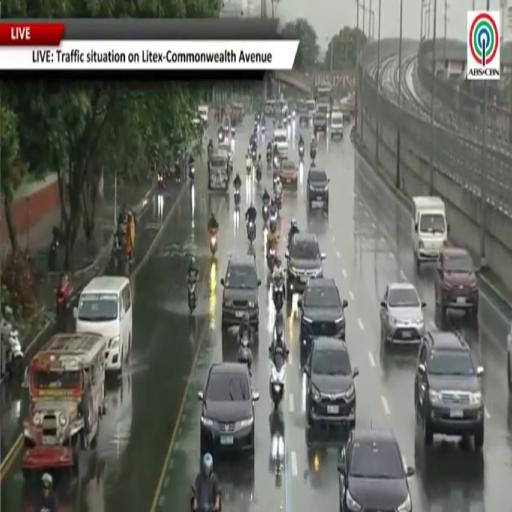car: (415, 331, 485, 449), (338, 429, 415, 511), (198, 362, 259, 457), (304, 336, 358, 428), (298, 278, 348, 362), (221, 253, 260, 330), (435, 247, 479, 315), (285, 233, 325, 303), (380, 283, 425, 344), (307, 168, 329, 211), (279, 159, 297, 189), (273, 128, 288, 158), (313, 112, 327, 136), (297, 102, 309, 126), (507, 323, 511, 392)
jeepney: (23, 333, 107, 475), (209, 149, 229, 191), (219, 140, 233, 175), (231, 104, 244, 125)
motorcycle: (0, 317, 23, 381), (270, 410, 285, 487), (270, 351, 285, 410), (108, 233, 128, 276), (237, 331, 252, 373), (191, 486, 215, 511), (272, 280, 285, 312), (48, 234, 59, 271), (188, 279, 196, 314), (267, 246, 276, 272), (210, 230, 217, 257), (247, 221, 255, 243), (262, 203, 269, 224), (234, 187, 240, 207), (274, 194, 281, 211), (270, 208, 278, 222), (310, 147, 316, 165), (158, 173, 164, 190), (189, 164, 194, 184), (246, 158, 252, 174), (273, 155, 279, 171), (251, 148, 257, 163), (256, 166, 261, 183), (299, 144, 304, 159), (266, 151, 271, 164), (218, 132, 224, 142), (261, 125, 265, 136), (231, 127, 235, 137), (292, 110, 296, 119), (288, 115, 291, 122)
truck: (412, 197, 449, 269)
